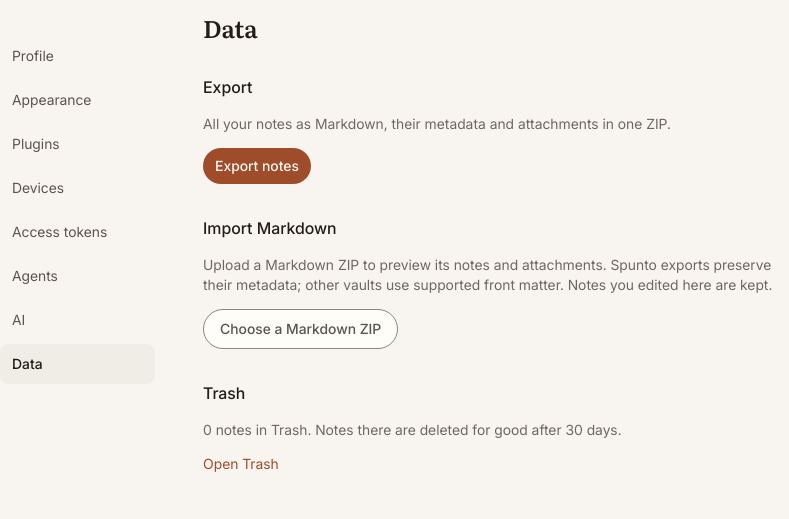
Scenario: plugin lifecycle controls › keeps Markdown import and export in Data without the retired import flow
This screenshot has width=789, height=519.
expect the file field labelled "Choose a Markdown ZIP" is shown: met, box [203, 309, 398, 349]
Click the button "Export notes" at (257, 166), box [203, 148, 311, 184]
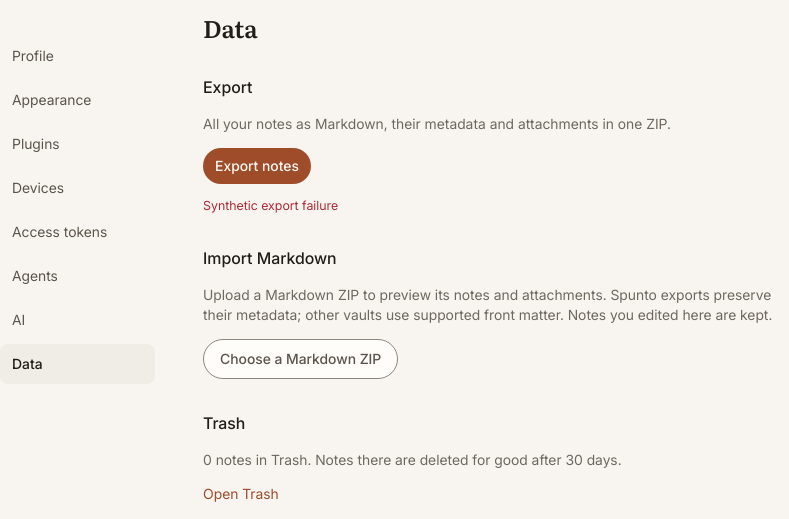
expect the message reads "Synthetic export failure": met, box [203, 198, 338, 212]
